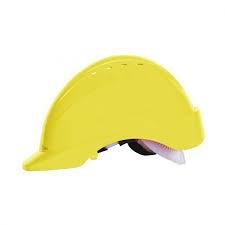helmet: (22, 55, 206, 172)
